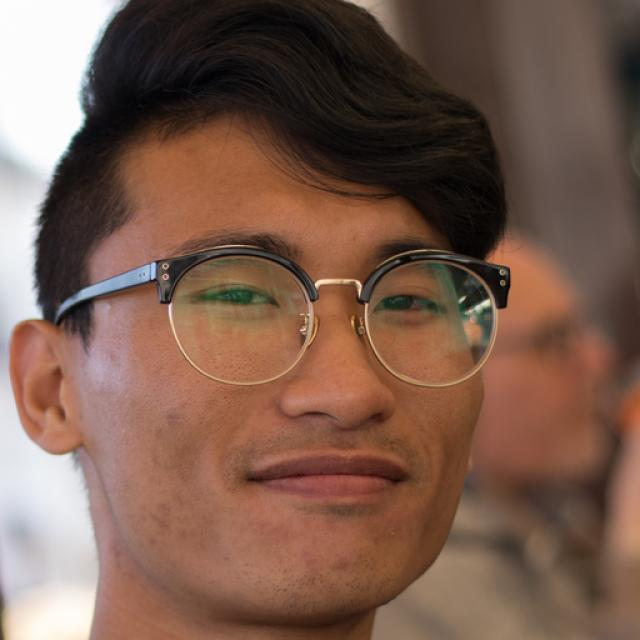content: (86, 100, 483, 632)
